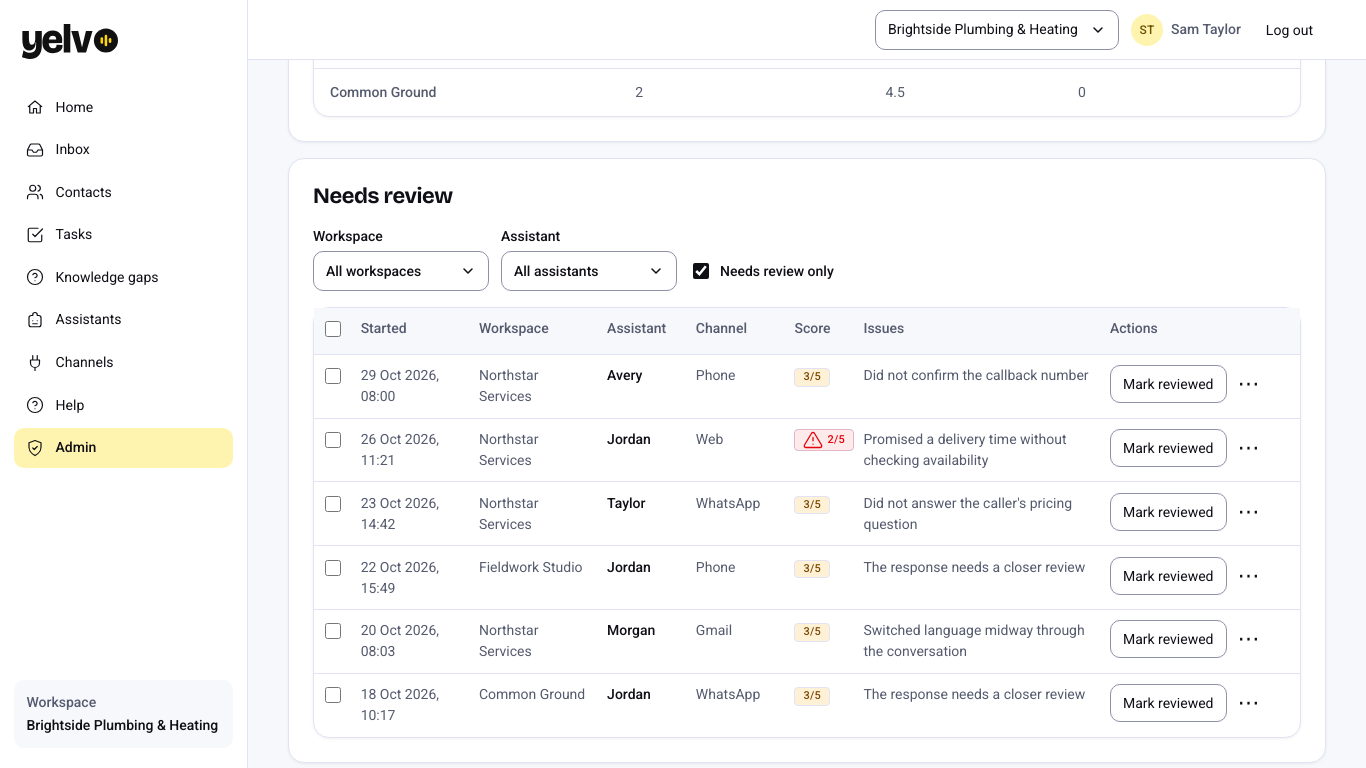
Test: platform admin pages › runs row menu rescore and eval-case actions with notices
This screenshot has width=1366, height=768.
(page scrolled)
Expected: the checkbox labelled "Needs review only" is shown, left=693, top=263, right=709, bottom=279
Expected: the row that starts with "29 Oct 2026, 08:00" is shown, left=314, top=354, right=1300, bottom=418
Click the button named "More options for": coordinates (1248, 384) left=1230, top=365, right=1266, bottom=403
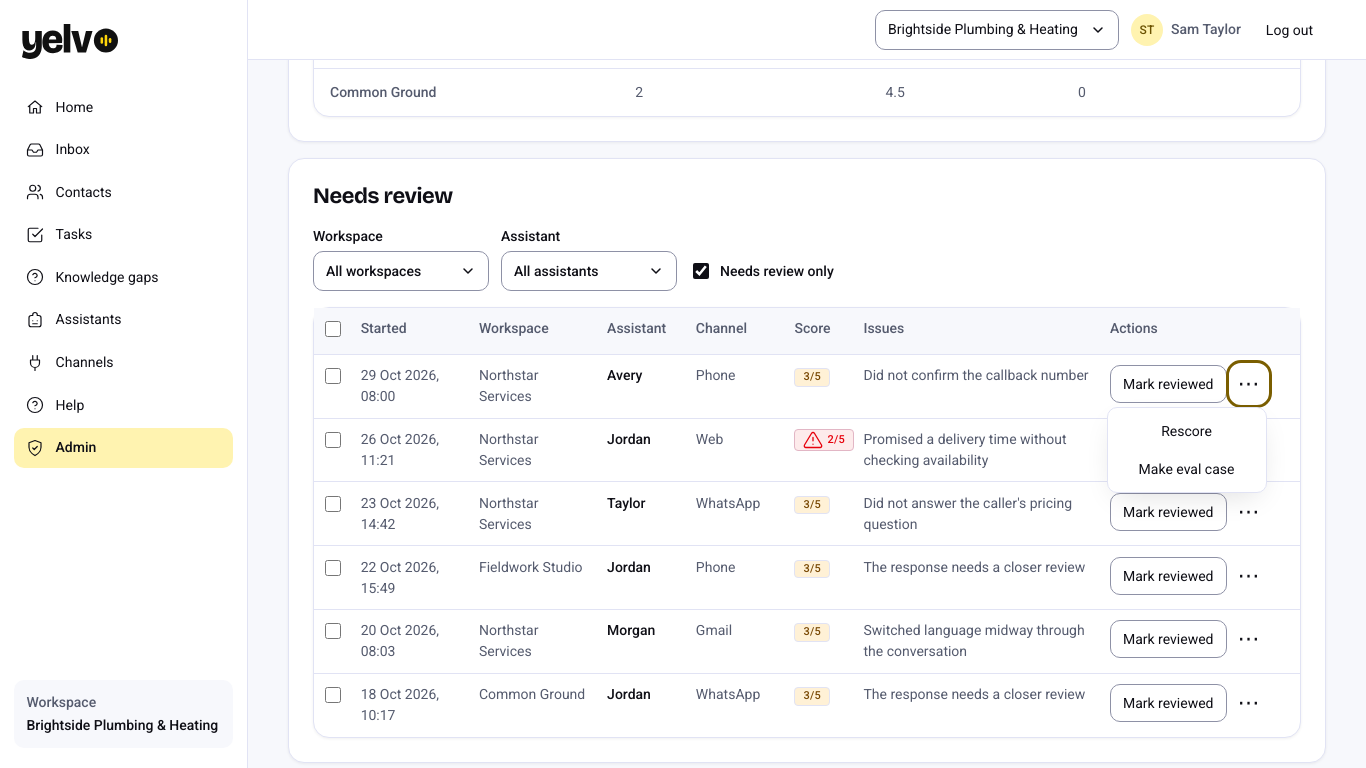
Click the menu item "Rescore": coordinates (1186, 431) left=1112, top=412, right=1262, bottom=450
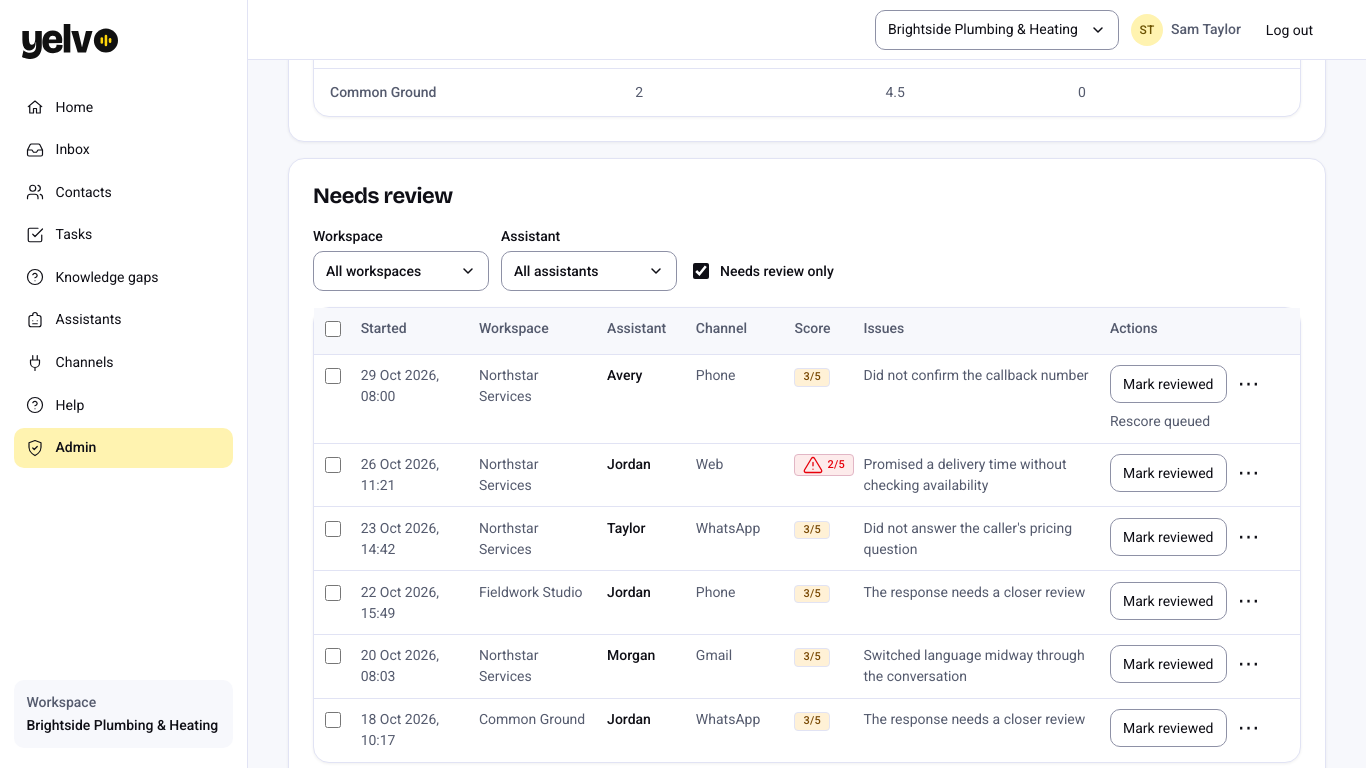
Result: the text "Rescore queued" is shown at left=1110, top=411, right=1210, bottom=432
Click the button named "More options for": coordinates (1248, 384) left=1230, top=365, right=1266, bottom=403
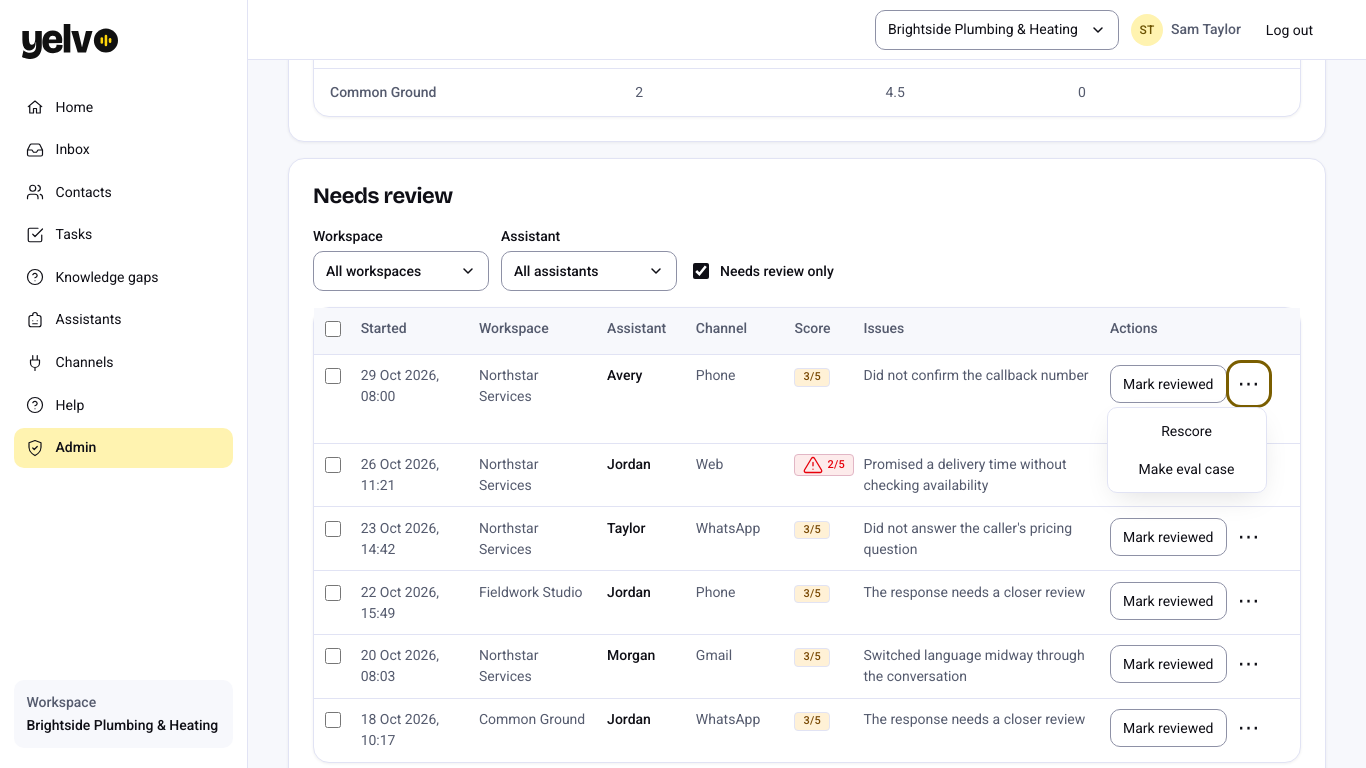
Click the menu item "Make eval case": coordinates (1186, 469) left=1112, top=450, right=1262, bottom=488
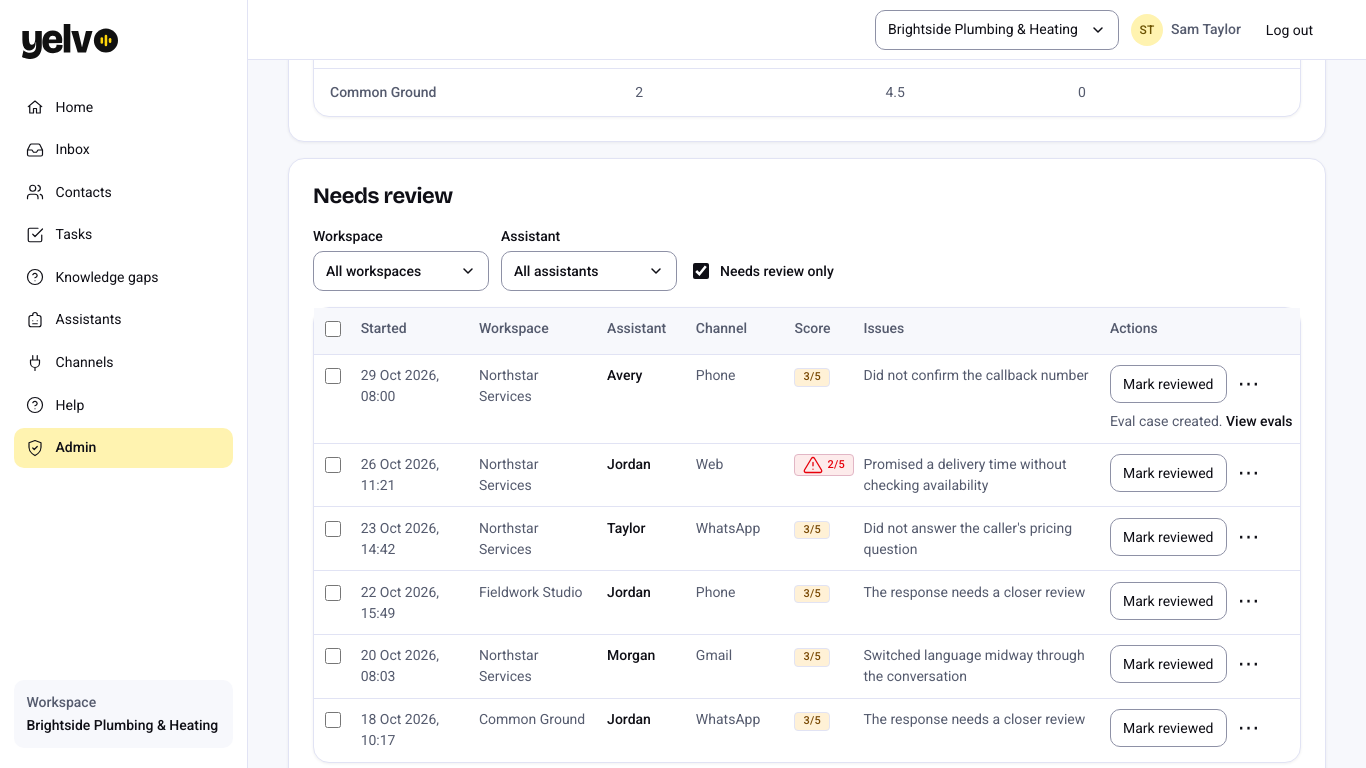
Result: the text "Eval case created." is shown at left=1110, top=413, right=1223, bottom=429
